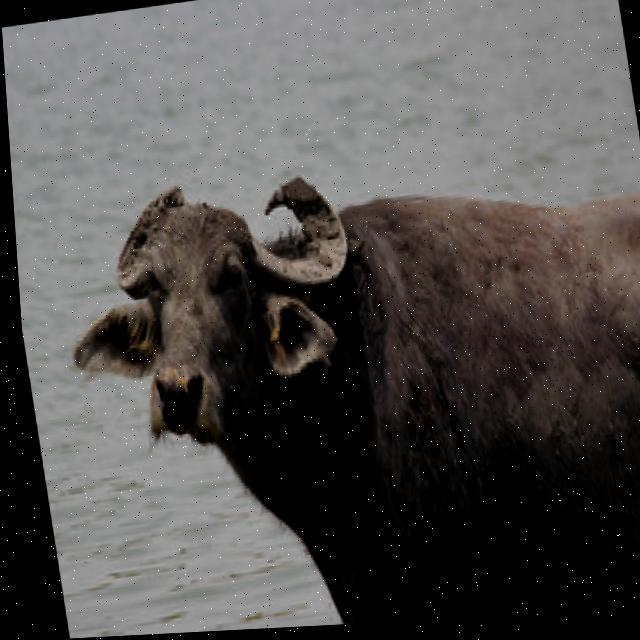Buffalo: (41, 112, 640, 638)
